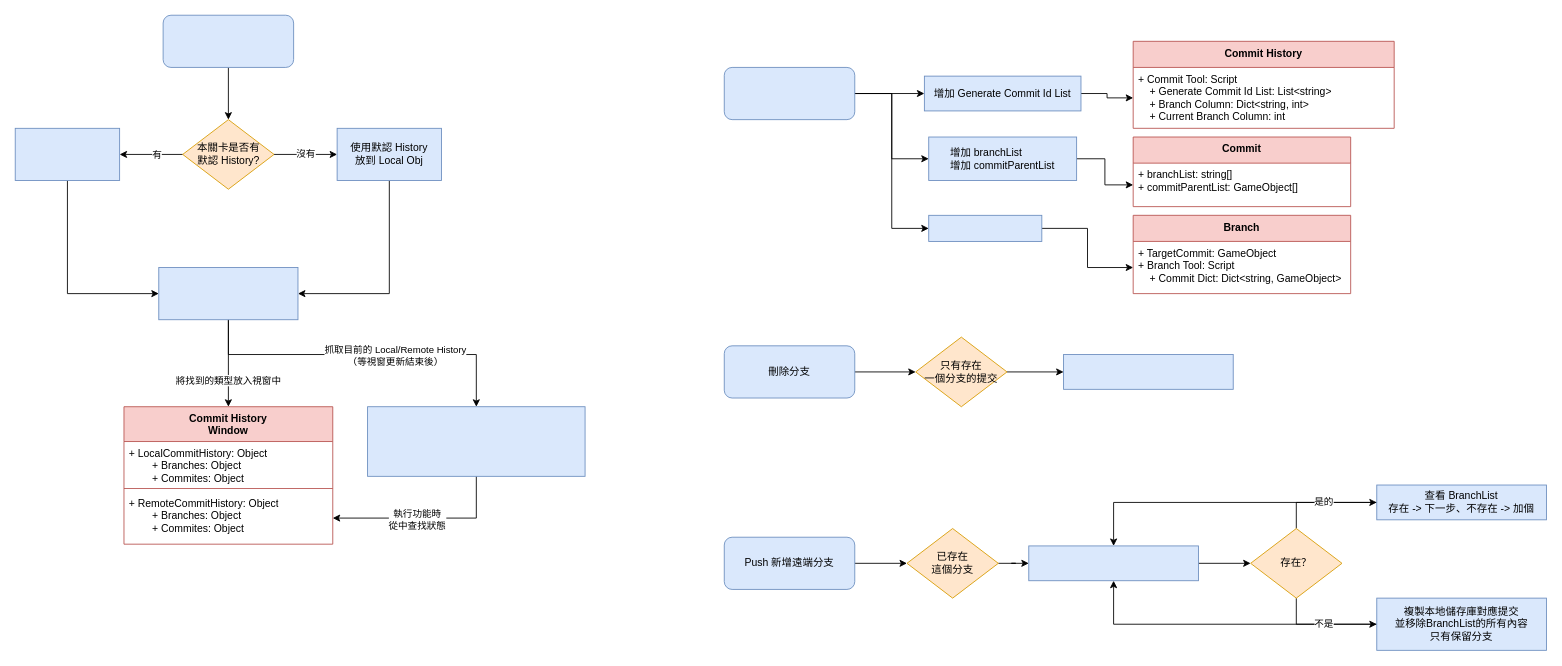
This 1562x666 diagram has some shape labels left out. Here are the shapes that lost their labels. From the top down, the box of each, then its label:
(162, 14, 294, 67): 建構預設模擬背景 或者 建構隨機模擬背景
(723, 67, 855, 120): 新增提交
(14, 127, 120, 181): 將它放入視窗中， 根據類型存到 Local or Remote Obj
(928, 214, 1042, 241): 增加 Commit Dict
(158, 267, 298, 320): 呼叫全屏 更新狀態 Event （在Random、Default Background時會呼叫）
(1063, 354, 1233, 389): 刪除特定 Generate Commit Id List
(367, 406, 585, 476): 其他功能： ex: 判定 Quest Valider Log Command 等 與 CommitHistory 相關的指令
(1028, 545, 1198, 581): 按照本地分支的 Commit Dict 試著尋找對應遠端提交
